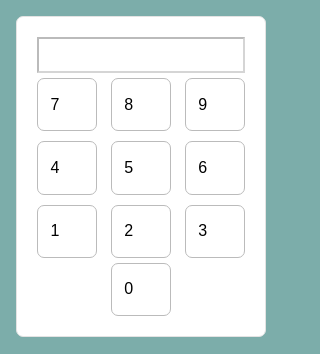
checks if a single pincode button works
This screenshot has width=320, height=354.
Click the button with test id "button-1".
click(67, 231)  # box [37,204,97,258]
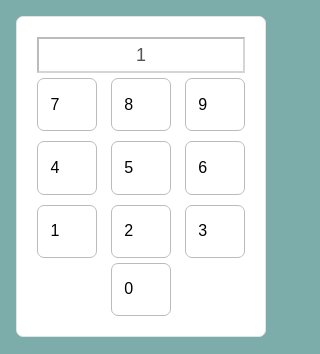
Result: the field with test id "keypad-input" holds "1" at [37,37,245,73]
